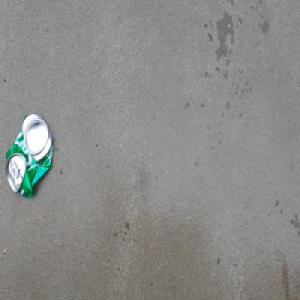SodaCan: (4, 111, 54, 201)
